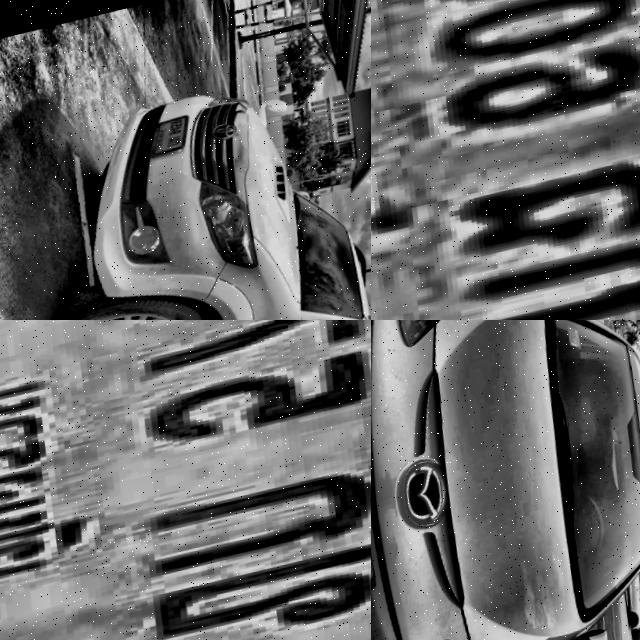license-plate: (0, 320, 371, 640), (371, 0, 640, 320), (140, 112, 201, 163)
